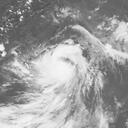cyclone: (38, 44, 83, 87)
